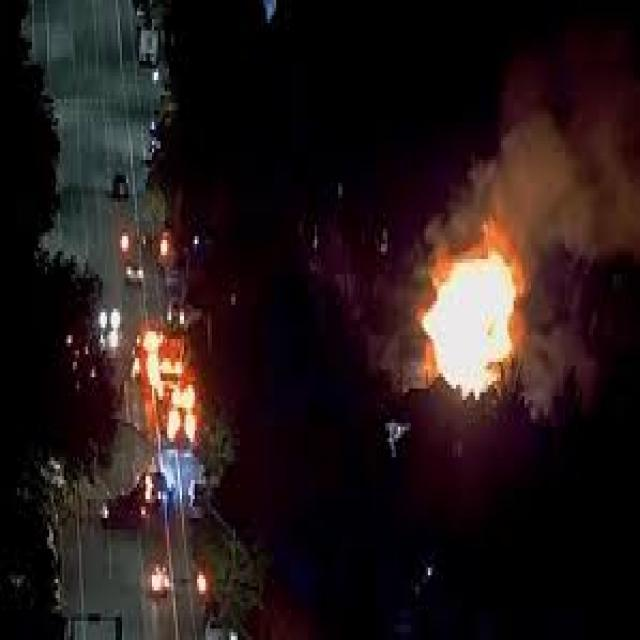Fire: (424, 232, 524, 393)
Smoke: (496, 87, 640, 262), (514, 318, 594, 434)
